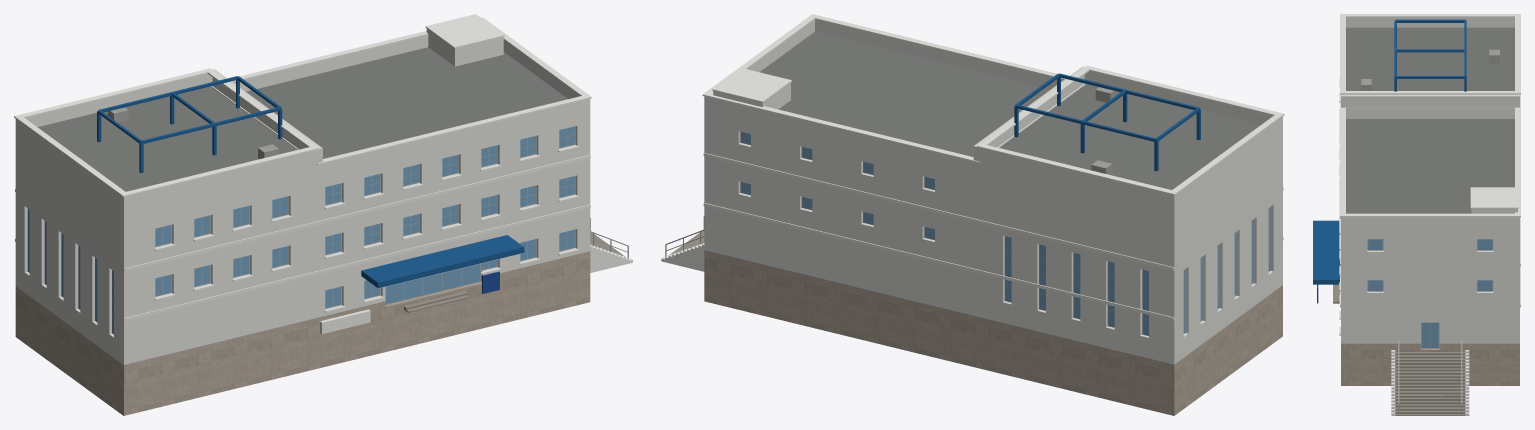
3 views of the same model, side by side, from view 1: azimuth 30°, elevation 25°; view 2: azimuth 150°, elevation 25°; view 3: azimuth 270°, elevation 25° (orthographic). The views are drawn at different scales.
Visible parts, largest first — view 1: w451562727__panel-wall, w451562727__roof, w451562727__plinth-wall, w451562727__trim, w451562727__glass, w451562727__blue-metal, w451562727__frame, w451562727__door-glass, w451562727__stone-step, w451562727__white-wall-side; view 2: w451562727__panel-wall, w451562727__roof, w451562727__plinth-wall, w451562727__trim, w451562727__glass, w451562727__blue-metal, w451562727__frame, w451562727__white-wall-side; view 3: w451562727__panel-wall, w451562727__roof, w451562727__trim, w451562727__plinth-wall, w451562727__stone-step, w451562727__blue-metal, w451562727__glass, w451562727__white-wall-side, w451562727__door-glass, w451562727__frame, w451562727__ac, w451562727__stainless-rail.
Boxes of the visible parts, x1,y1,x2,y2 form: w451562727__panel-wall: (15,28,590,364); w451562727__roof: (37,47,567,191); w451562727__plinth-wall: (15,251,590,415); w451562727__trim: (14,14,591,333); w451562727__glass: (28,126,574,333); w451562727__blue-metal: (97,76,524,288); w451562727__frame: (27,126,575,334); w451562727__door-glass: (385,264,480,303); w451562727__stone-step: (404,232,625,312); w451562727__white-wall-side: (590,244,632,272); w451562727__panel-wall: (704,19,1282,364); w451562727__roof: (760,31,1260,189); w451562727__plinth-wall: (704,250,1282,415); w451562727__trim: (702,14,1284,320); w451562727__glass: (741,132,1270,335); w451562727__blue-metal: (1014,73,1200,171); w451562727__frame: (740,132,1270,335); w451562727__white-wall-side: (661,243,704,271); w451562727__panel-wall: (1341,17,1519,343); w451562727__roof: (1346,27,1514,213); w451562727__trim: (1339,14,1520,335); w451562727__plinth-wall: (1341,343,1519,385); w451562727__stone-step: (1333,284,1465,415); w451562727__blue-metal: (1313,19,1466,284); w451562727__glass: (1368,239,1492,290); w451562727__white-wall-side: (1391,350,1469,415); w451562727__door-glass: (1422,322,1438,347); w451562727__frame: (1367,239,1492,348); w451562727__ac: (1361,49,1499,90); w451562727__stainless-rail: (1398,340,1462,415).
Size of the model in its own units: 44.43 by 18.75 by 17.85.
15 materials, 1 textured.
